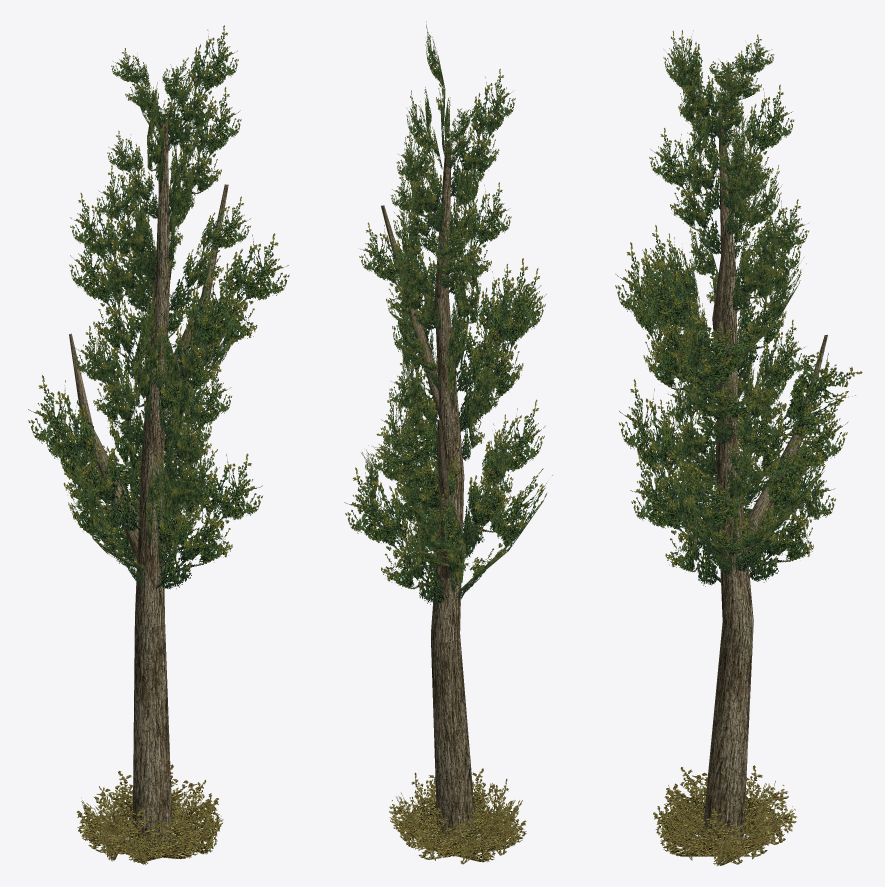
Rendered from w_cd_gra_03.glb.
3 views of the same model, side by side, from view 1: azimuth 30°, elevation 25°; view 2: azimuth 150°, elevation 25°; view 3: azimuth 270°, elevation 25° (orthographic). The views are drawn at different scales.
Parts seen in each view (by area): view 1: w_cd_lea_03, w_cd_wood_03, w_cd_gra_03; view 2: w_cd_lea_03, w_cd_wood_03, w_cd_gra_03; view 3: w_cd_lea_03, w_cd_wood_03, w_cd_gra_03.
Part boxes in pixels (bbox=[...]): w_cd_lea_03: bbox=[28, 25, 289, 589]; w_cd_wood_03: bbox=[69, 121, 228, 846]; w_cd_gra_03: bbox=[76, 764, 223, 864]; w_cd_lea_03: bbox=[344, 21, 552, 604]; w_cd_wood_03: bbox=[381, 140, 476, 844]; w_cd_gra_03: bbox=[389, 768, 526, 864]; w_cd_lea_03: bbox=[615, 30, 862, 586]; w_cd_wood_03: bbox=[703, 112, 827, 842]; w_cd_gra_03: bbox=[653, 765, 797, 866].
Bounding box in the file's own units: 9.67 × 37.65 × 10.78.
3 materials, 3 textured.
